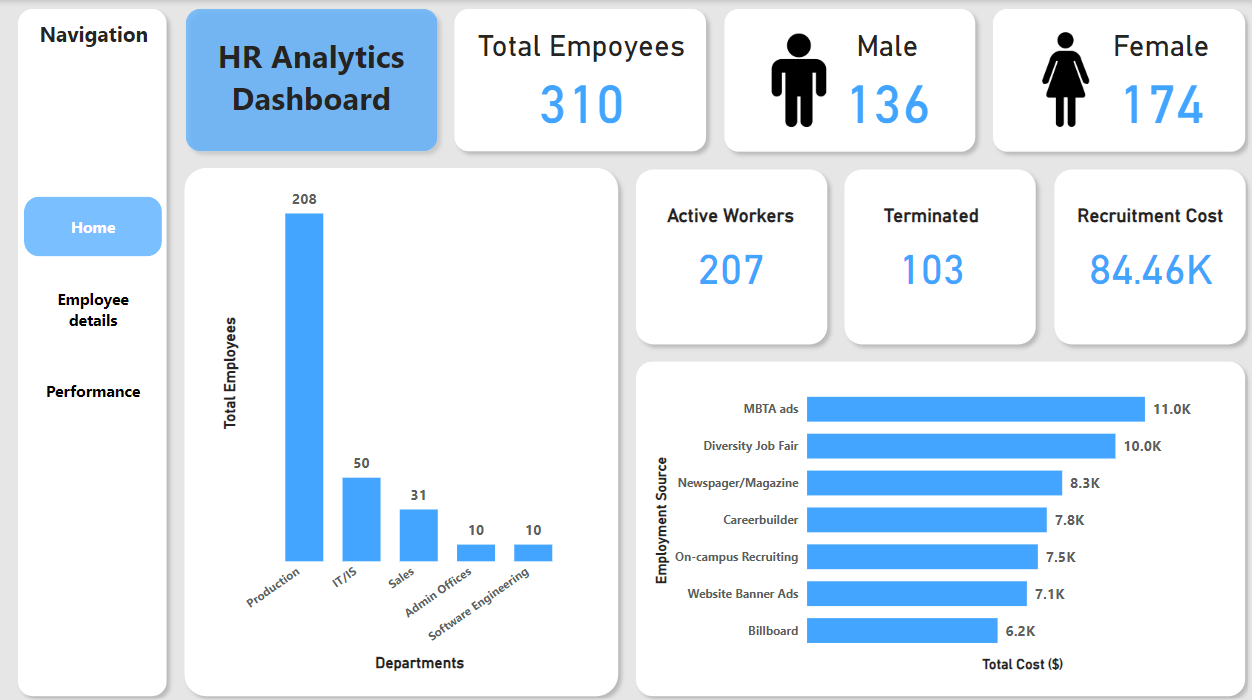

The dashboard page shown, as its layout file describes it:
{"tool":"powerbi","page":{"name":"Home","canvas":[1280,720],"ordinal":0},"visuals":[{"type":"shape","box":[9.2,0,169.9,719.5],"z":0},{"type":"shape","box":[180,0,275,163.3],"z":1000},{"type":"shape","box":[455,0,275,163.3],"z":2000},{"type":"shape","box":[730.2,0,274,163.8],"z":3000},{"type":"shape","box":[1004.2,0,275.6,163.8],"z":4000},{"type":"card","title":"Total Empoyees","fields":{"Values":["CountNonNull(HRDataset_v13.EmpID)"]},"box":[480,28.3,225,106.7],"z":5000},{"type":"card","title":"Male","fields":{"Values":["CountNonNull(HRDataset_v13.EmpID)"]},"box":[829.7,29.1,151.6,105.6],"z":6000},{"type":"card","title":"Female","fields":{"Values":["CountNonNull(HRDataset_v13.EmpID)"]},"box":[1114.5,29.1,140.8,105.6],"z":7000},{"type":"shape","box":[640,163.3,213.3,196.7],"z":8000},{"type":"card","title":"Active Workers","fields":{"Values":["CountNonNull(HRDataset_v13.Termd)"]},"box":[661.7,208.3,168.3,106.7],"z":9000},{"type":"shape","box":[853.3,163.3,213.3,196.7],"z":10000},{"type":"card","title":"Terminated","fields":{"Values":["CountNonNull(HRDataset_v13.Termd)"]},"box":[868.3,208.3,165,106.7],"z":11000},{"type":"shape","box":[179.1,162.3,460.8,557.2],"z":12000},{"type":"columnChart","fields":{"Category":["HRDataset_v13.Department"],"Y":["CountNonNull(HRDataset_v13.EmpID)"]},"box":[220,175,373.3,515],"z":13000},{"type":"shape","box":[1066.7,163.3,213.3,196.7],"z":14000},{"type":"card","title":"Recruitment Cost","fields":{"Values":["Sum(recruiting_costs.Total)"]},"box":[1091.7,208.3,165,106.7],"z":15000},{"type":"shape","box":[639.9,359.7,639.9,359.7],"z":16000},{"type":"barChart","fields":{"Category":["recruiting_costs.Employment Source"],"Y":["Sum(recruiting_costs.Total)"]},"box":[661.7,376.7,606.7,313.3],"z":17000},{"type":"actionButton","box":[24.5,200.5,140.8,61.2],"z":18000},{"type":"actionButton","box":[24.5,284.7,140.8,61.2],"z":19000},{"type":"actionButton","box":[24.5,368,140.8,61.2],"z":20000},{"type":"textbox","box":[35.2,13.8,130.1,67.4],"z":21000},{"type":"textbox","box":[202.1,29.1,231.2,107.2],"z":22000},{"type":"image","box":[1033.3,27.6,108.7,107.2],"z":23000},{"type":"image","box":[762.4,23,105.6,117.9],"z":24000}]}

Visuals, with their boxes in screenshot pixels (x1, y1, x2, y2), scaled from the page's 1280x720 canvas onto the 1252x700 screenshot:
shape: (9,0,175,699)
shape: (176,0,445,159)
shape: (445,0,714,159)
shape: (714,0,982,159)
shape: (982,0,1251,159)
"Total Empoyees" card: (470,28,690,131)
"Male" card: (812,28,960,131)
"Female" card: (1090,28,1228,131)
shape: (626,159,835,350)
"Active Workers" card: (647,203,812,306)
shape: (835,159,1043,350)
"Terminated" card: (849,203,1011,306)
shape: (175,158,626,699)
columnChart - HRDataset_v13.Department x CountNonNull(HRDataset_v13.EmpID): (215,170,580,671)
shape: (1043,159,1251,350)
"Recruitment Cost" card: (1068,203,1229,306)
shape: (626,350,1251,699)
barChart - recruiting_costs.Employment Source x Sum(recruiting_costs.Total): (647,366,1241,671)
actionButton: (24,195,162,254)
actionButton: (24,277,162,336)
actionButton: (24,358,162,417)
textbox: (34,13,162,79)
textbox: (198,28,424,133)
image: (1011,27,1117,131)
image: (746,22,849,137)
